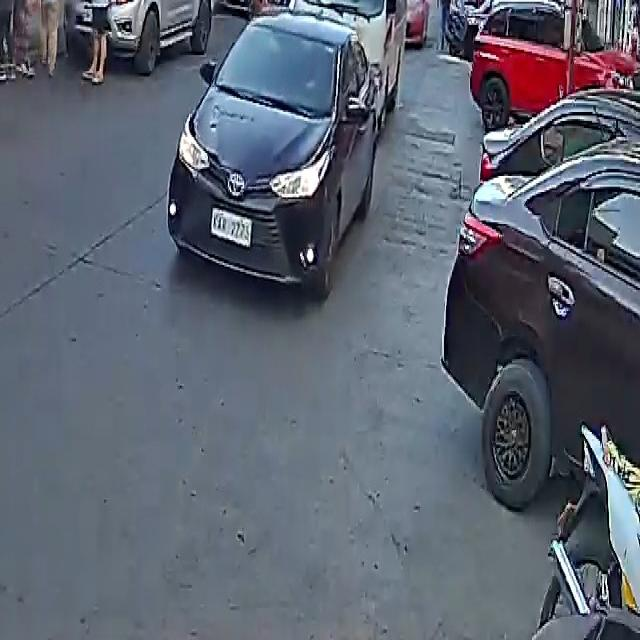car: (444, 98, 640, 518), (165, 3, 392, 290), (468, 0, 640, 130), (99, 0, 217, 68), (220, 0, 269, 12)
